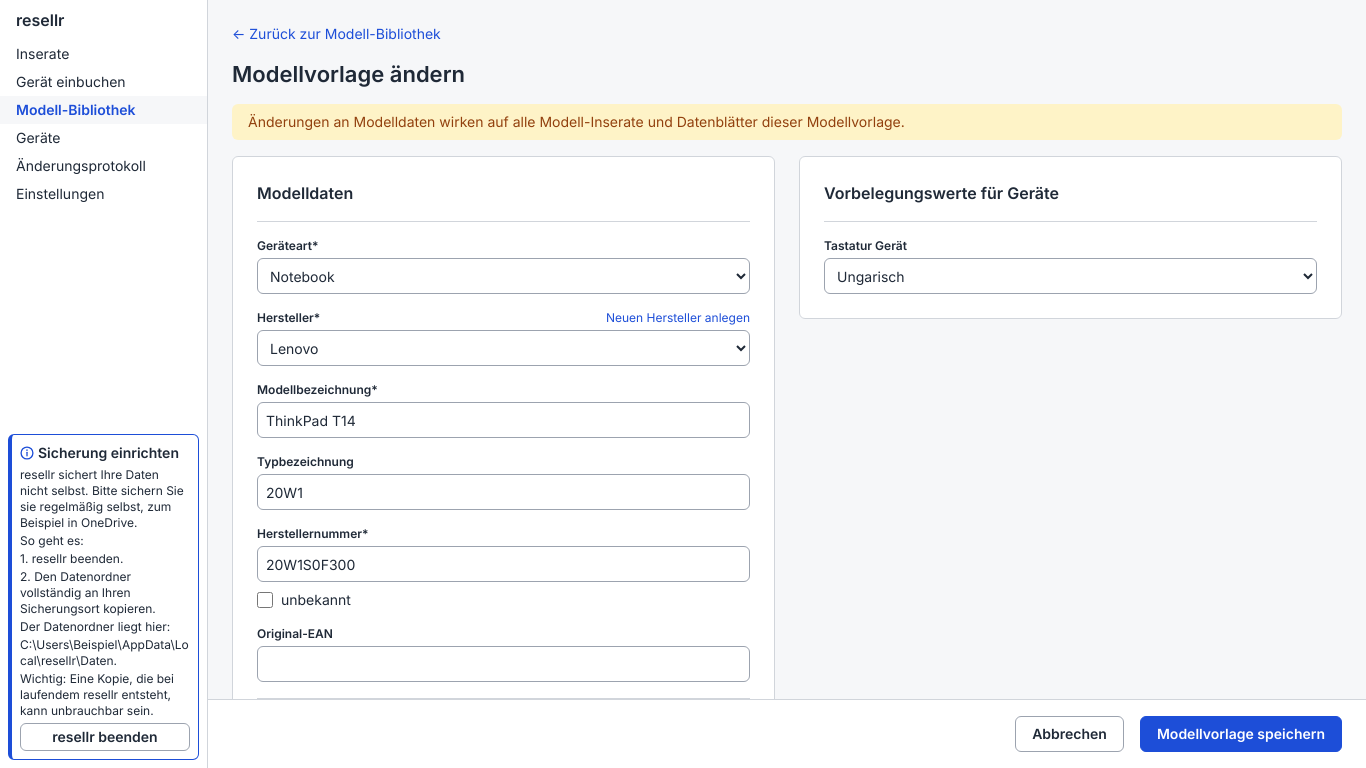
it: UI-007 changing a model template (CU-114, #181) › UI-007.speichert UI-007.success sends PATCH with the version shown and returns to UI-006 with the banner
Check: the form named "Modellvorlage ändern" is shown, box [232,156,1342,699]
Replace the text in the field labelled "Typbezeichnung" with "20W2" at x=504, y=492, box [257,474,750,510]
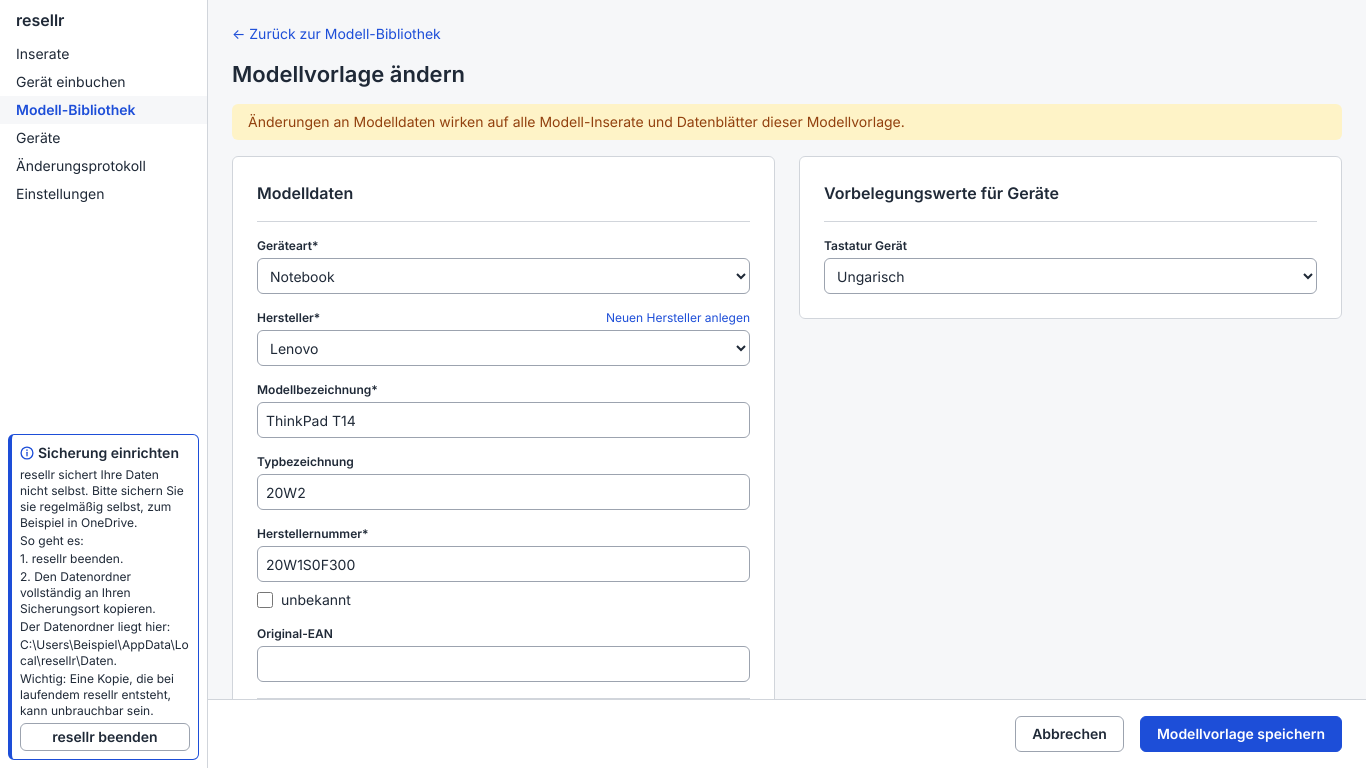
Click the button "Modellvorlage speichern".
click(1241, 734)  # box [1140,716,1342,752]
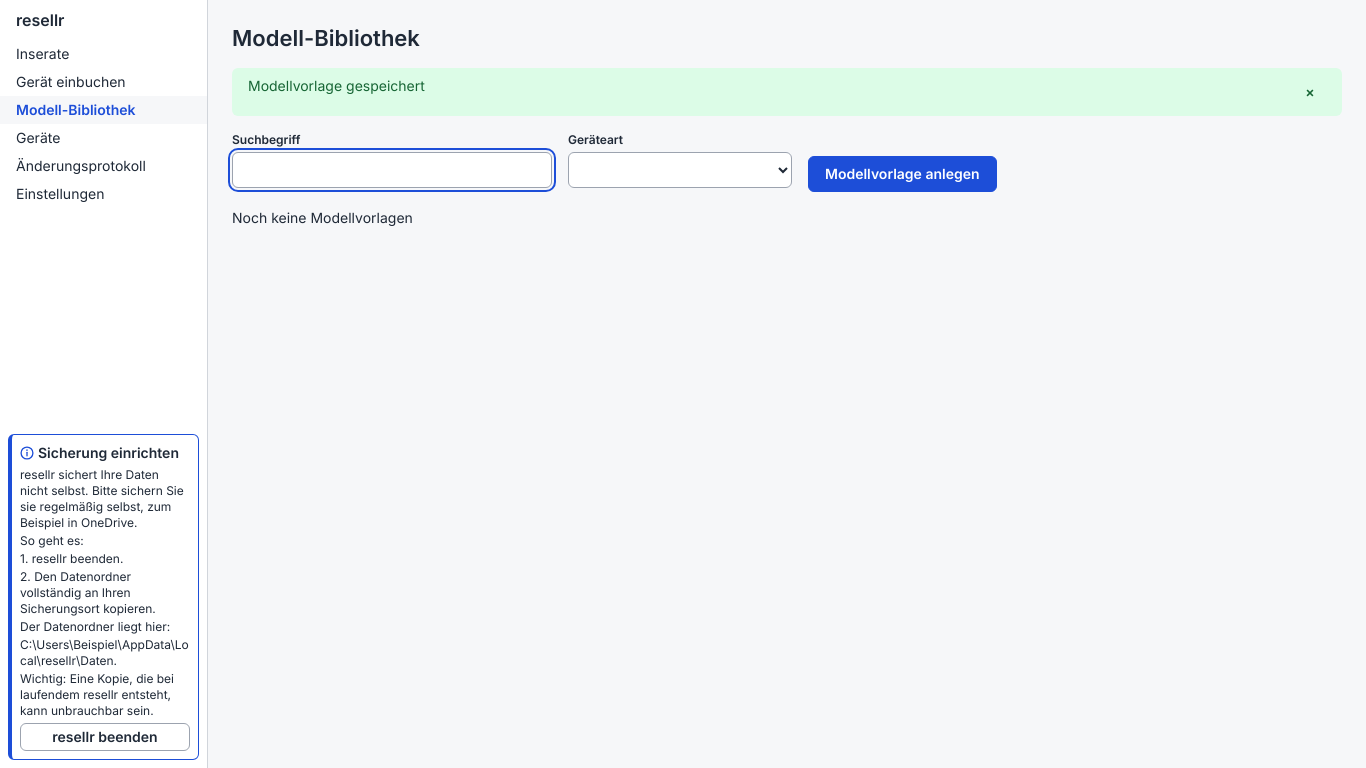
Check: the text "Modellvorlage gespeichert" is shown, box [248,77,425,94]
